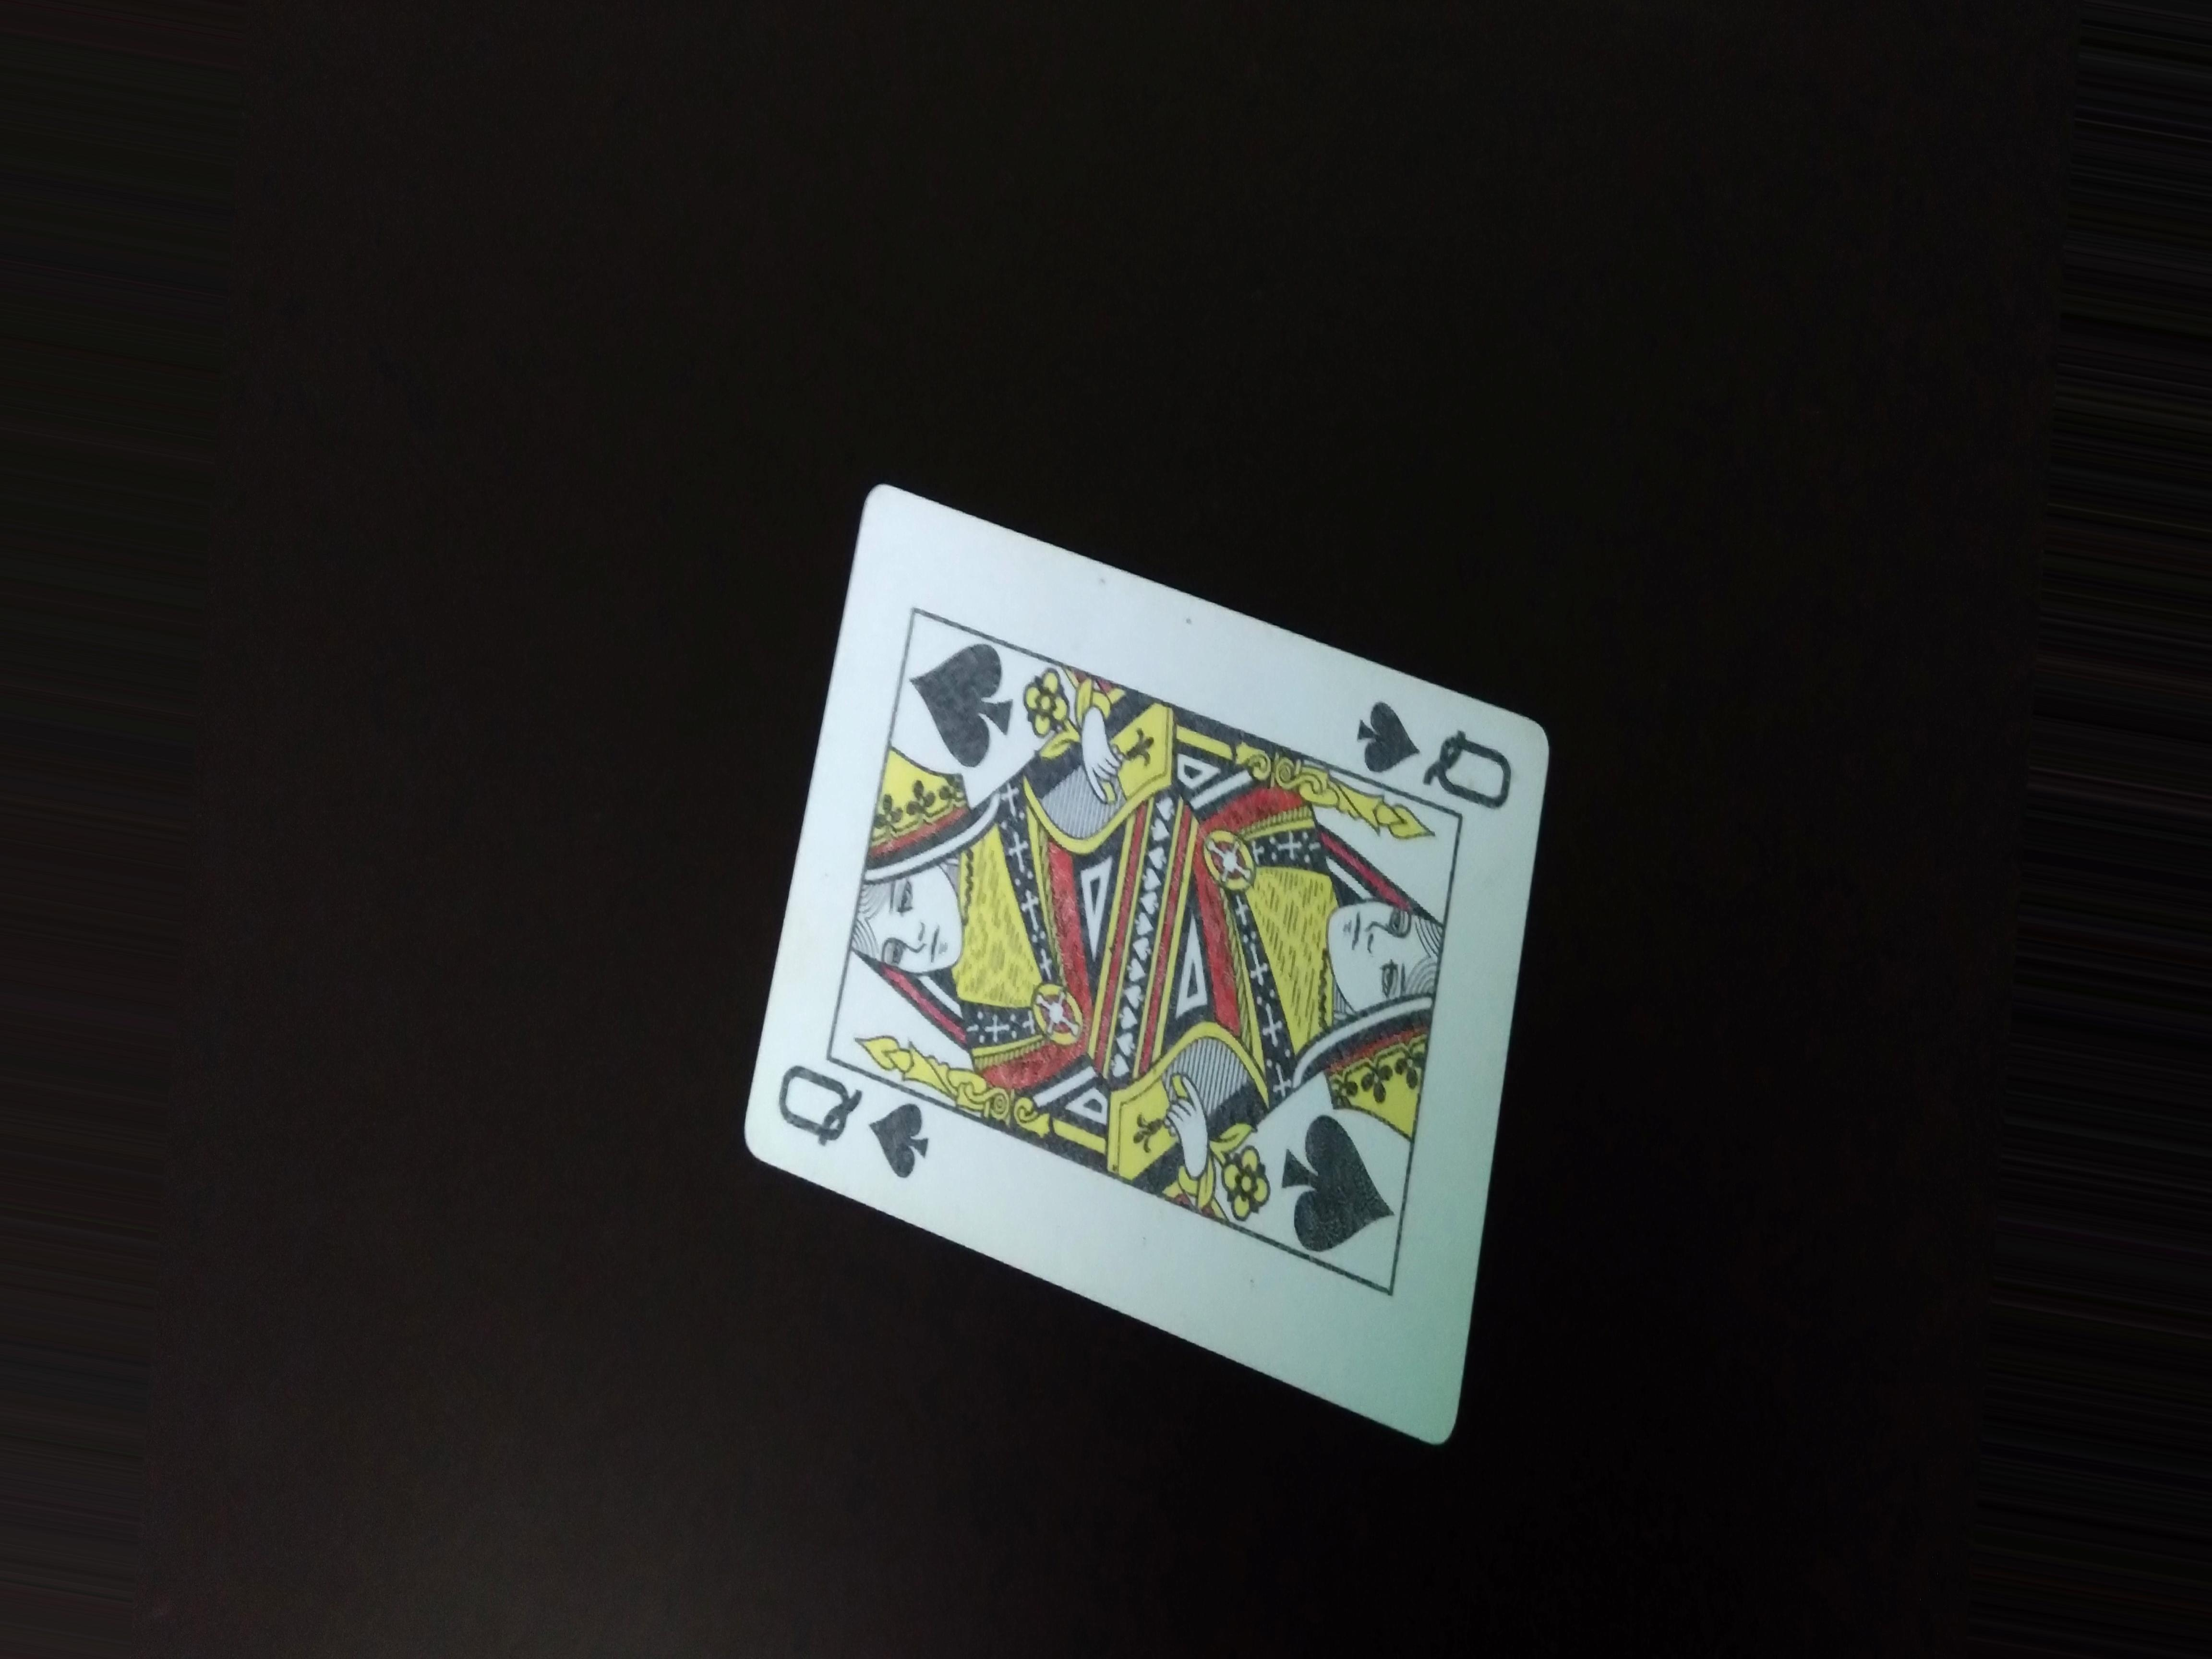QS: (733, 1039, 944, 1194)
